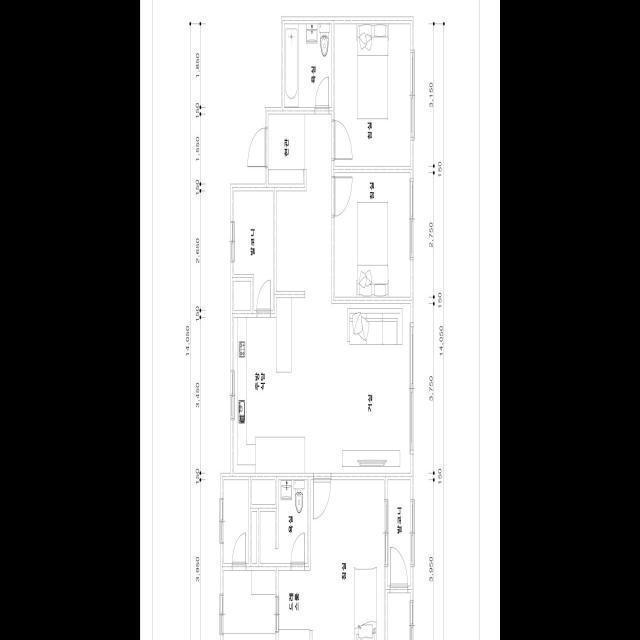background: (140, 0, 500, 640)
space_balconi: (234, 190, 273, 310), (387, 479, 411, 585)
space_bedroom: (309, 480, 384, 640), (335, 23, 411, 166), (335, 172, 410, 297)
space_dressroom: (224, 569, 275, 640), (278, 570, 309, 640)
space_front: (268, 114, 305, 184)
space_kitchen: (234, 297, 305, 473)
space_living_room: (276, 114, 411, 472)
space_other: (224, 479, 249, 563), (387, 592, 411, 640), (252, 480, 275, 504), (234, 281, 251, 310), (252, 511, 257, 563)
space_toilet: (260, 479, 308, 563), (284, 23, 332, 107)
